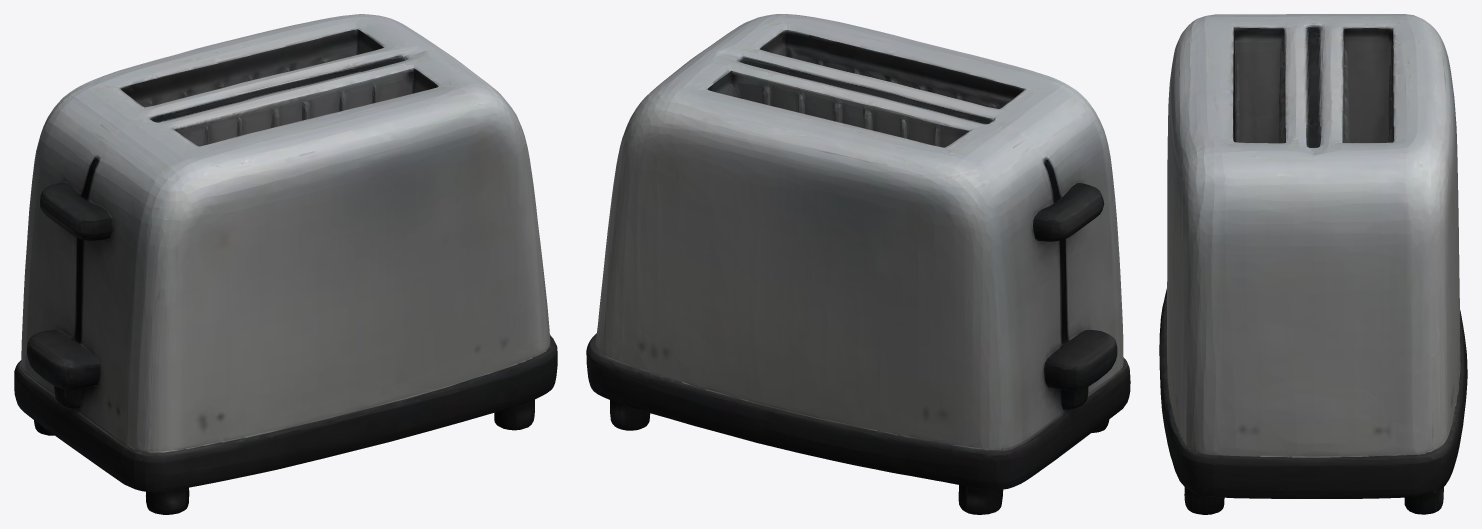
File: toaster.glb
The picture shows the model from 3 angles, left to right: view 1: azimuth 30°, elevation 25°; view 2: azimuth 150°, elevation 25°; view 3: azimuth 270°, elevation 25°; orthographic projection.
Visible parts, largest first — view 1: world; view 2: world; view 3: world.
Part boxes in pixels (x1,y1,x2,y2): world: (14, 14, 557, 514); world: (586, 14, 1130, 514); world: (1159, 14, 1467, 514).
Size of the model in its own units: 0.9992 by 0.699 by 0.5748.
Materials: 1 (1 with a texture image).
